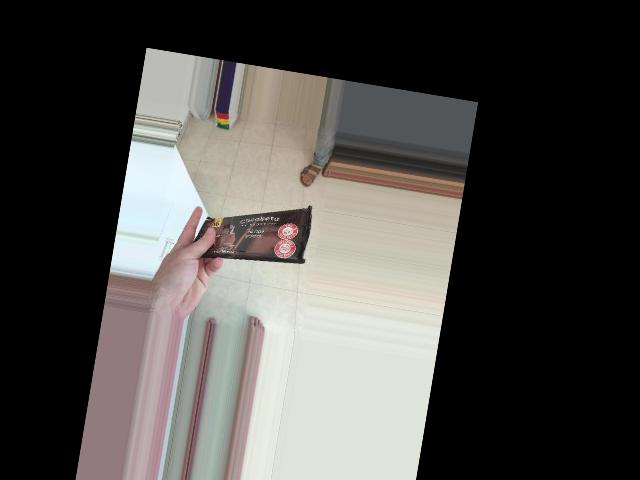chocolate: (181, 184, 319, 280)
